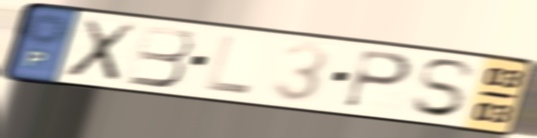3: (269, 40, 333, 106)
B: (125, 23, 197, 89)
L: (202, 33, 256, 97)
P: (340, 47, 416, 111)
S: (407, 57, 480, 120)
X: (60, 16, 141, 84)
